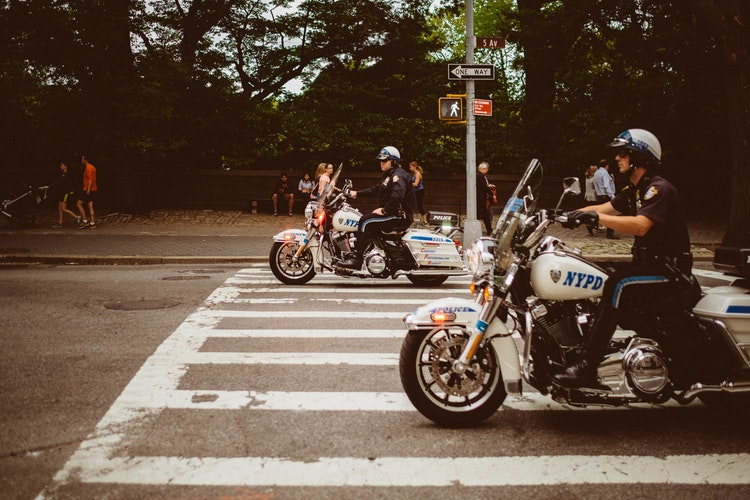helmet: (604, 124, 671, 171), (371, 144, 404, 167)
